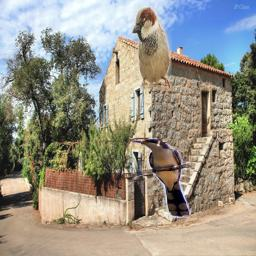Cuckoo: (132, 138, 191, 218)
Sparrow: (132, 7, 172, 91)
